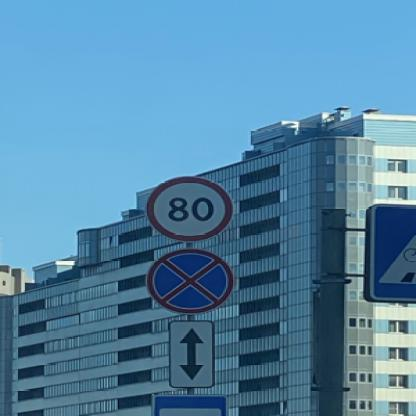Speed Limit 80: (150, 176, 234, 240)
